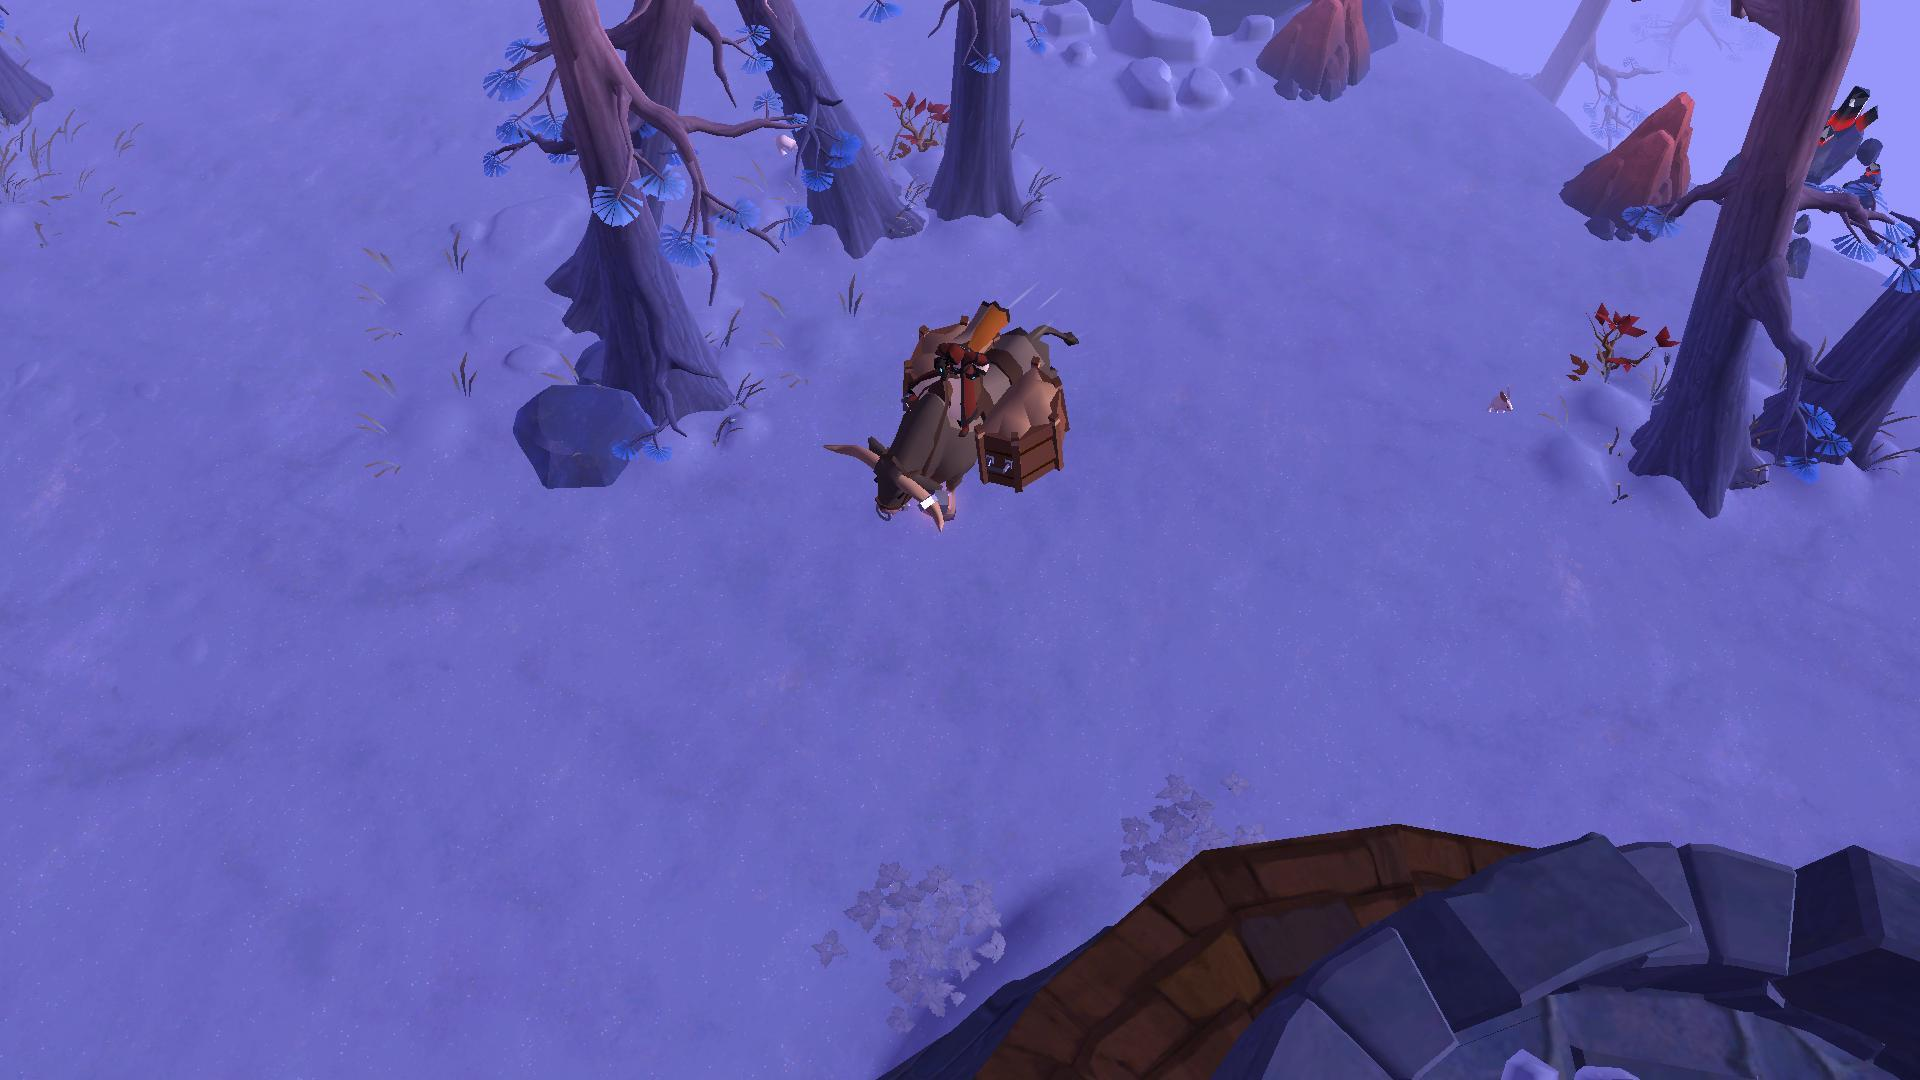rock_t5: (1560, 84, 1696, 231), (1258, 0, 1373, 103)
